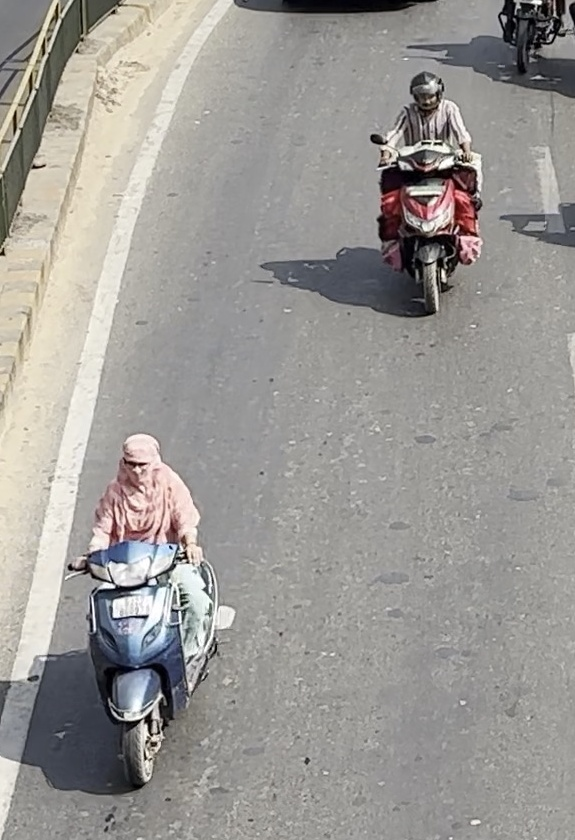BikeWithRider: (58, 424, 241, 793), (362, 63, 492, 321)
Helmet: (402, 64, 452, 116)
NoHelmet: (109, 426, 170, 495)
